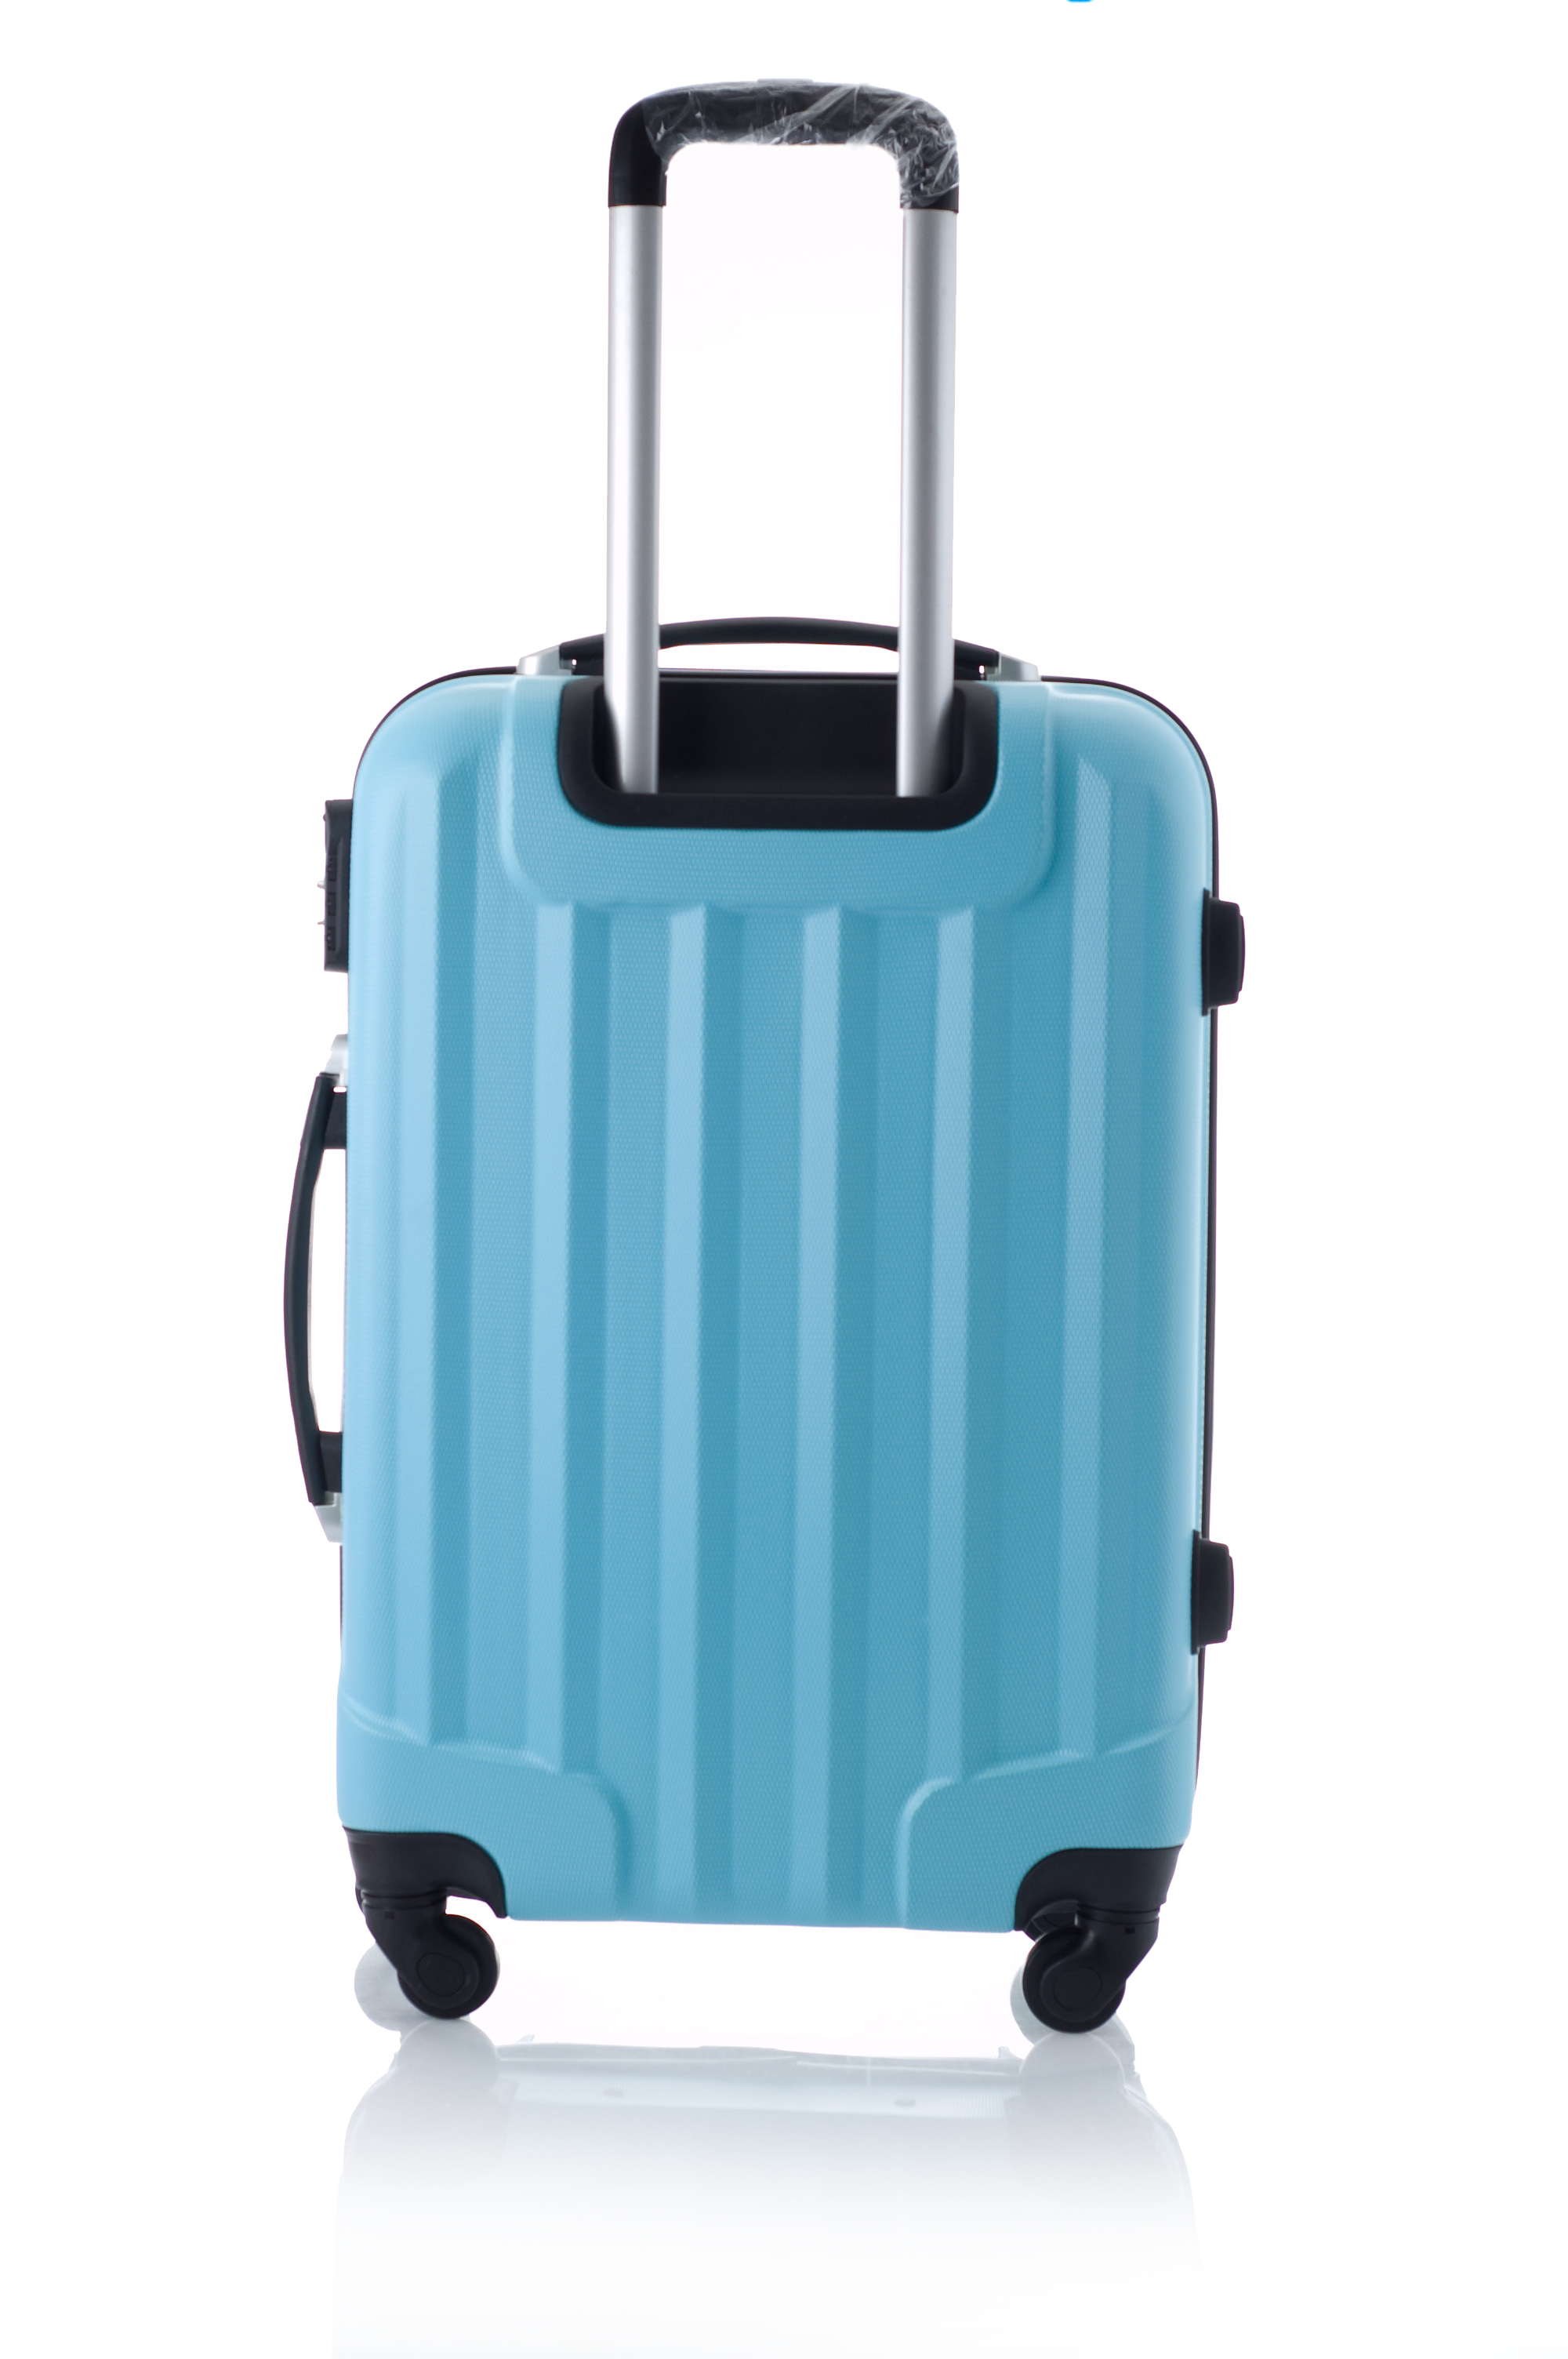luggage: (282, 73, 1232, 2035)
